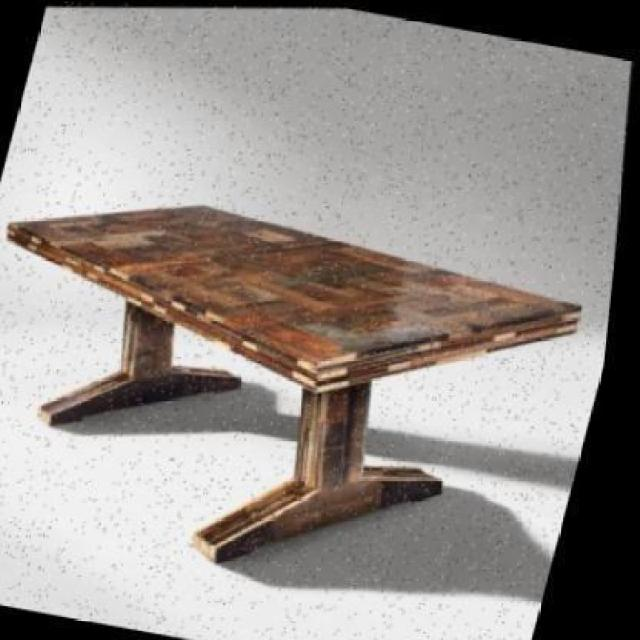tables: (4, 202, 582, 563)
